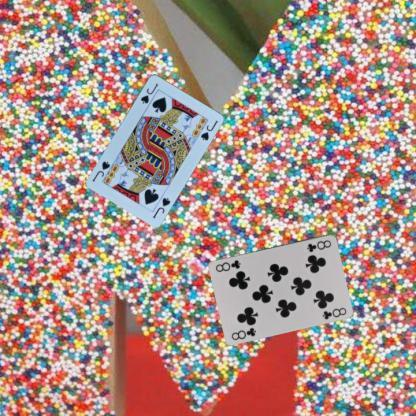8c: (228, 325, 258, 341), (304, 237, 332, 253)
Js: (138, 80, 160, 105), (150, 194, 172, 219)
